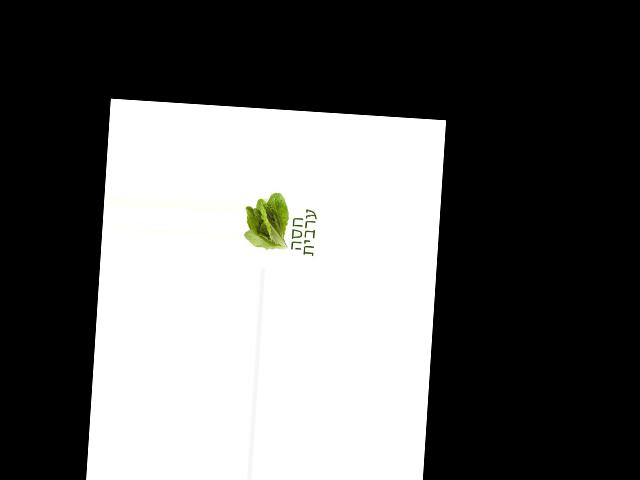lettuce: (242, 190, 295, 254)
